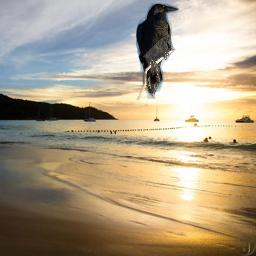Crow: (136, 3, 179, 100)
